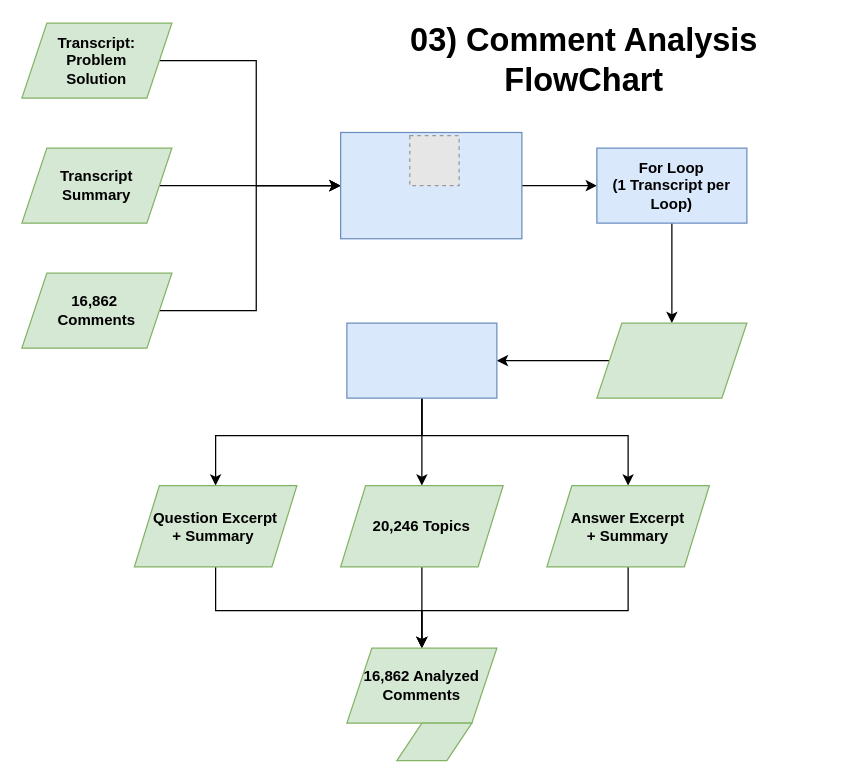
The diagram is 844 pixels wide and 783 high, and some of its shapes have lost their labels. Grey dashed boxes stand in for pictures. The box of each missing label's shape, as (x1, y1, x2, y2) in pixels:
.csv: (396, 722, 472, 761)
Analyze Comments: (346, 322, 497, 398)
n ≤ 20 Chunk of Comments: (596, 322, 747, 398)
OpenAI GPT-5-Mini + Python: (339, 131, 522, 239)
